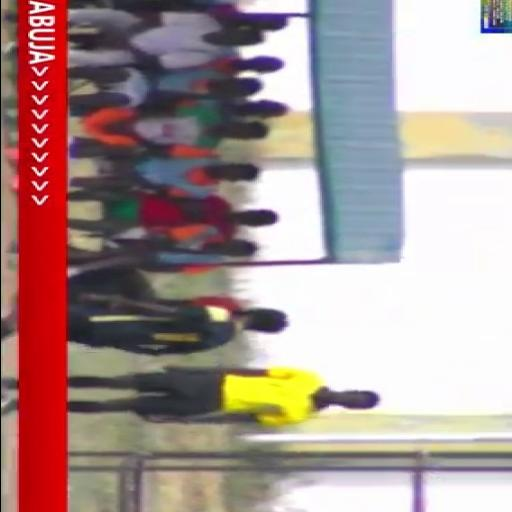distract: (78, 0, 316, 278)
referee: (59, 362, 397, 431)
team1: (64, 294, 284, 356)
